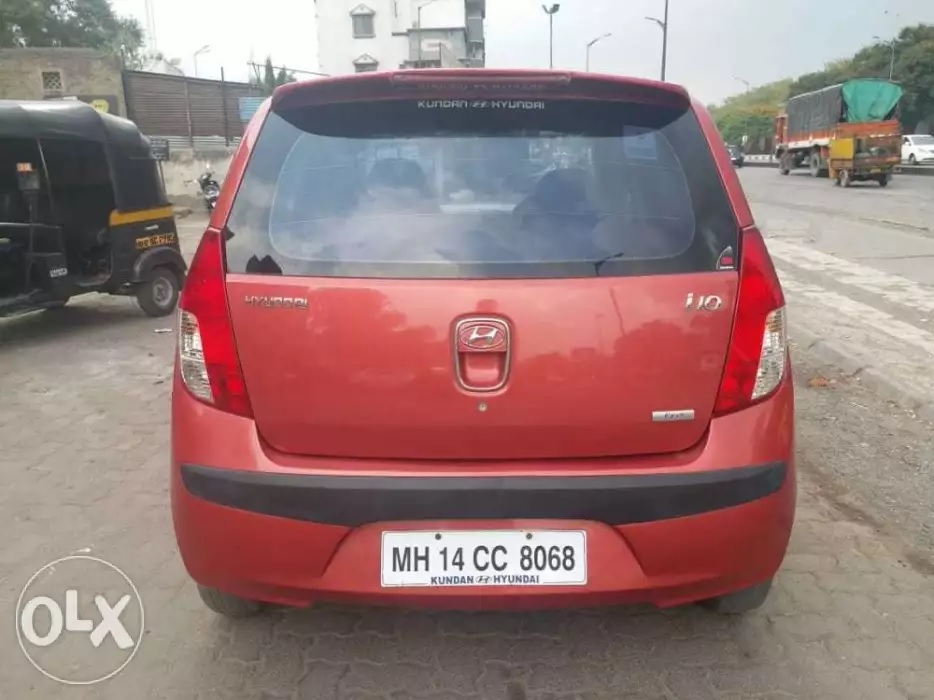licenseplate: (379, 526, 594, 591)
